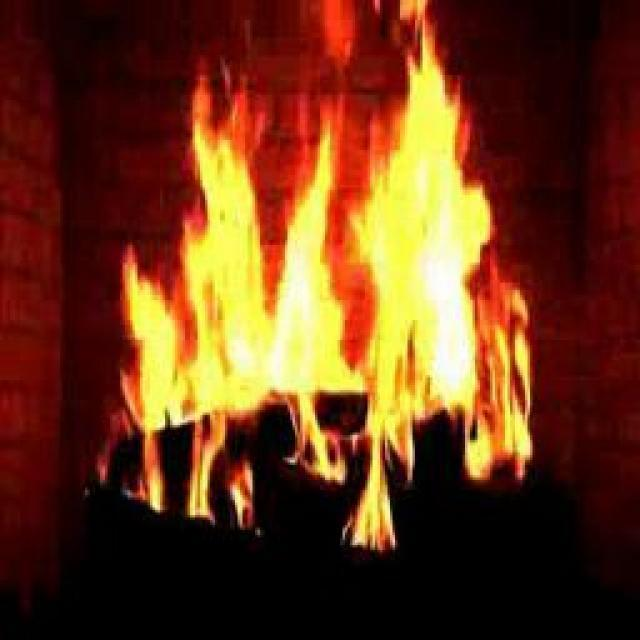Fire: (125, 30, 529, 446)
